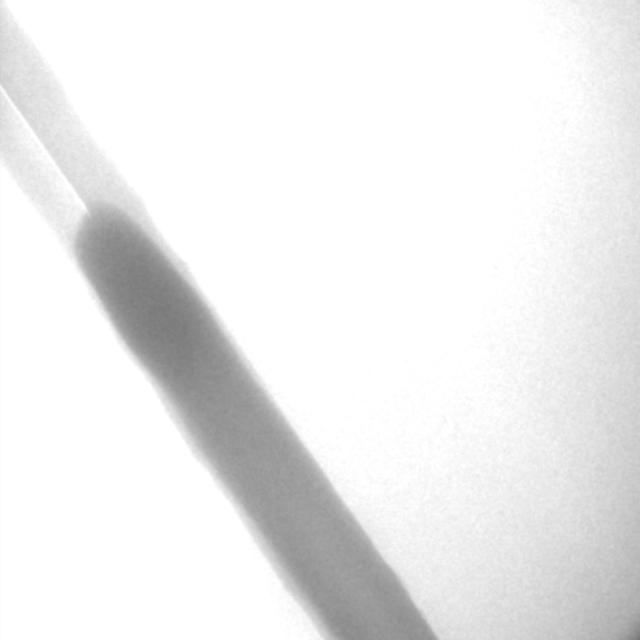broken arc: (1, 84, 93, 217)
